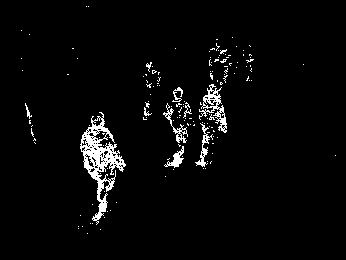person: (80, 109, 126, 226), (199, 83, 228, 170), (167, 87, 195, 170)
